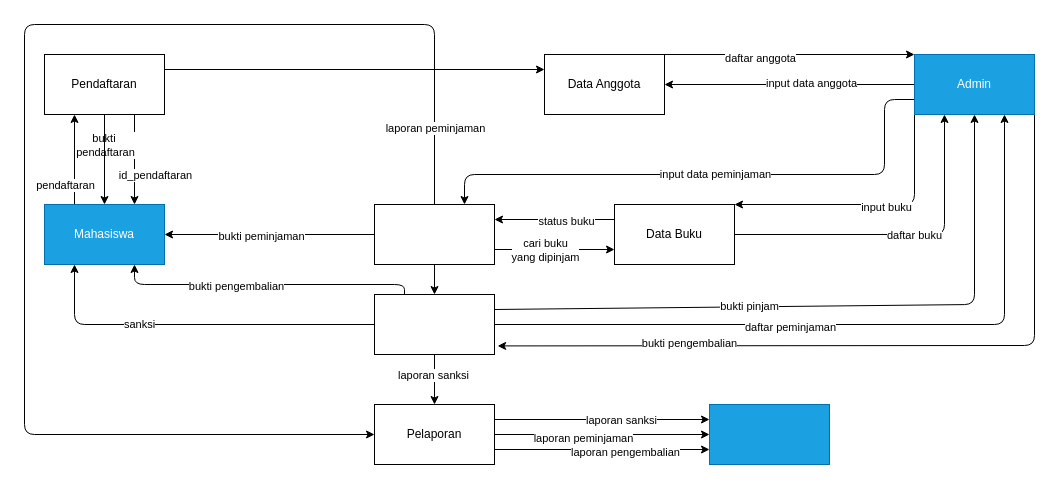
This 1060x482 diagram has some shape labels left out. Here are the shapes that lost their labels. From the top down, the centre of each, then its label:
the point at 434,234: Peminjaman
the point at 434,324: Pengembalian
the point at 769,434: Kepala Perpustakaan
